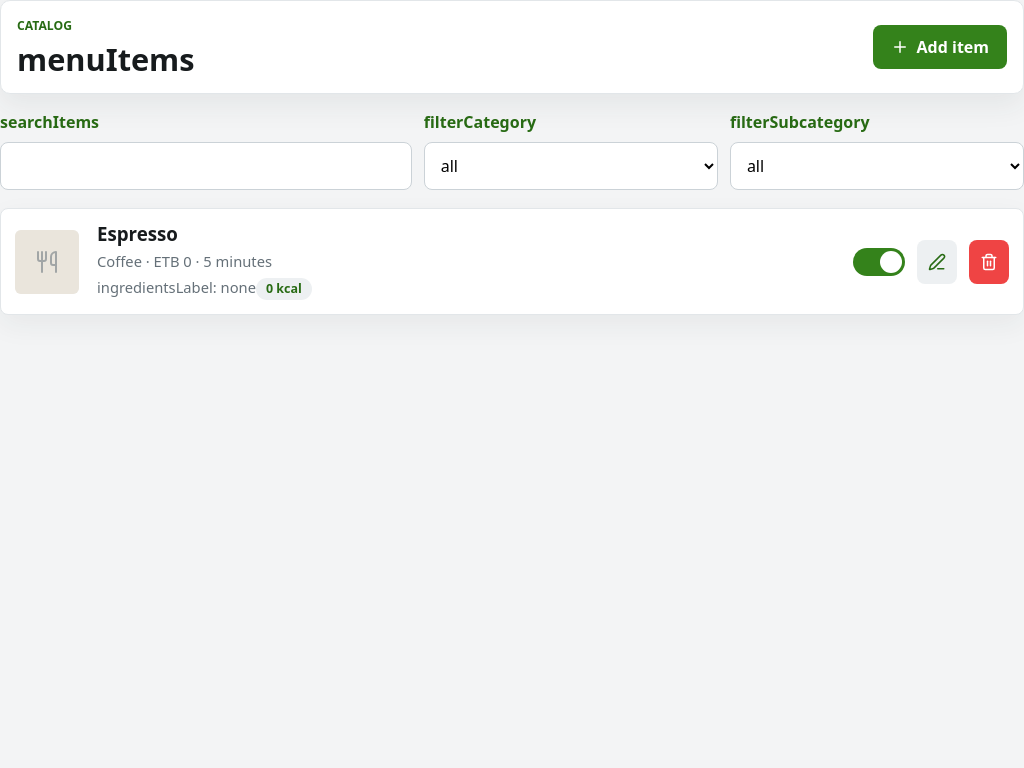
Prep Time Workflow & Manager RBAC › renders prep time field on edit form for Manager RBAC users
The width and height of the screenshot is (1024, 768).
Click the button named "editItem".
click(937, 262)  # box [917,240,957,284]
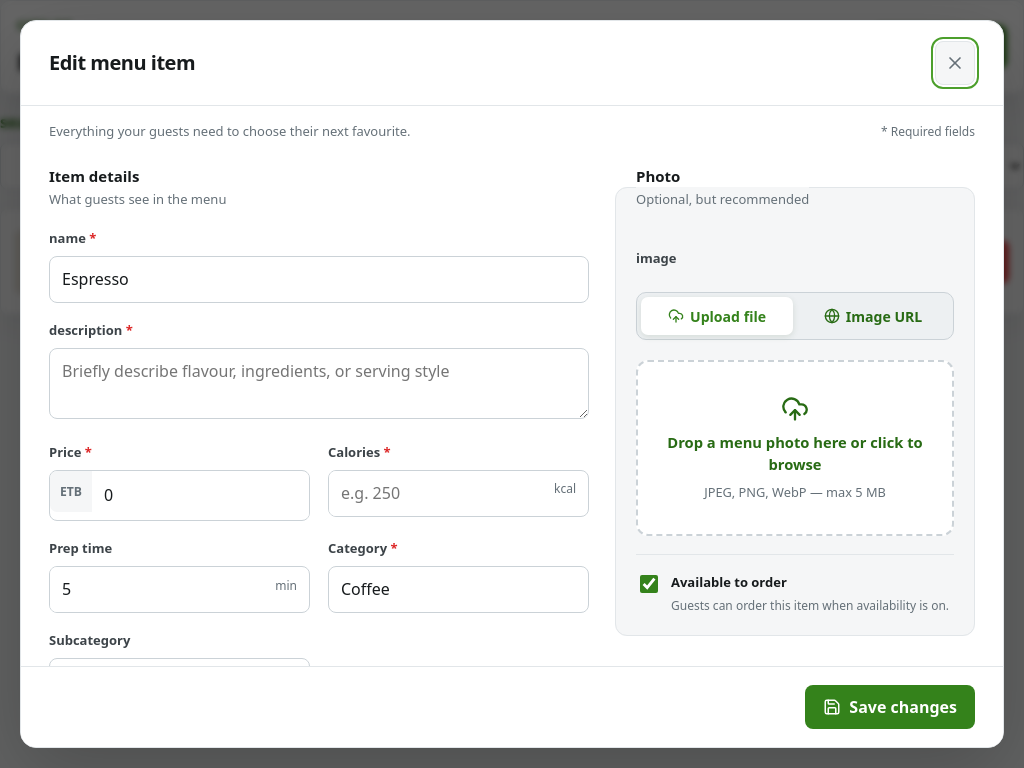
Expected: the text "Prep time" is shown, [49,539,112,557]
